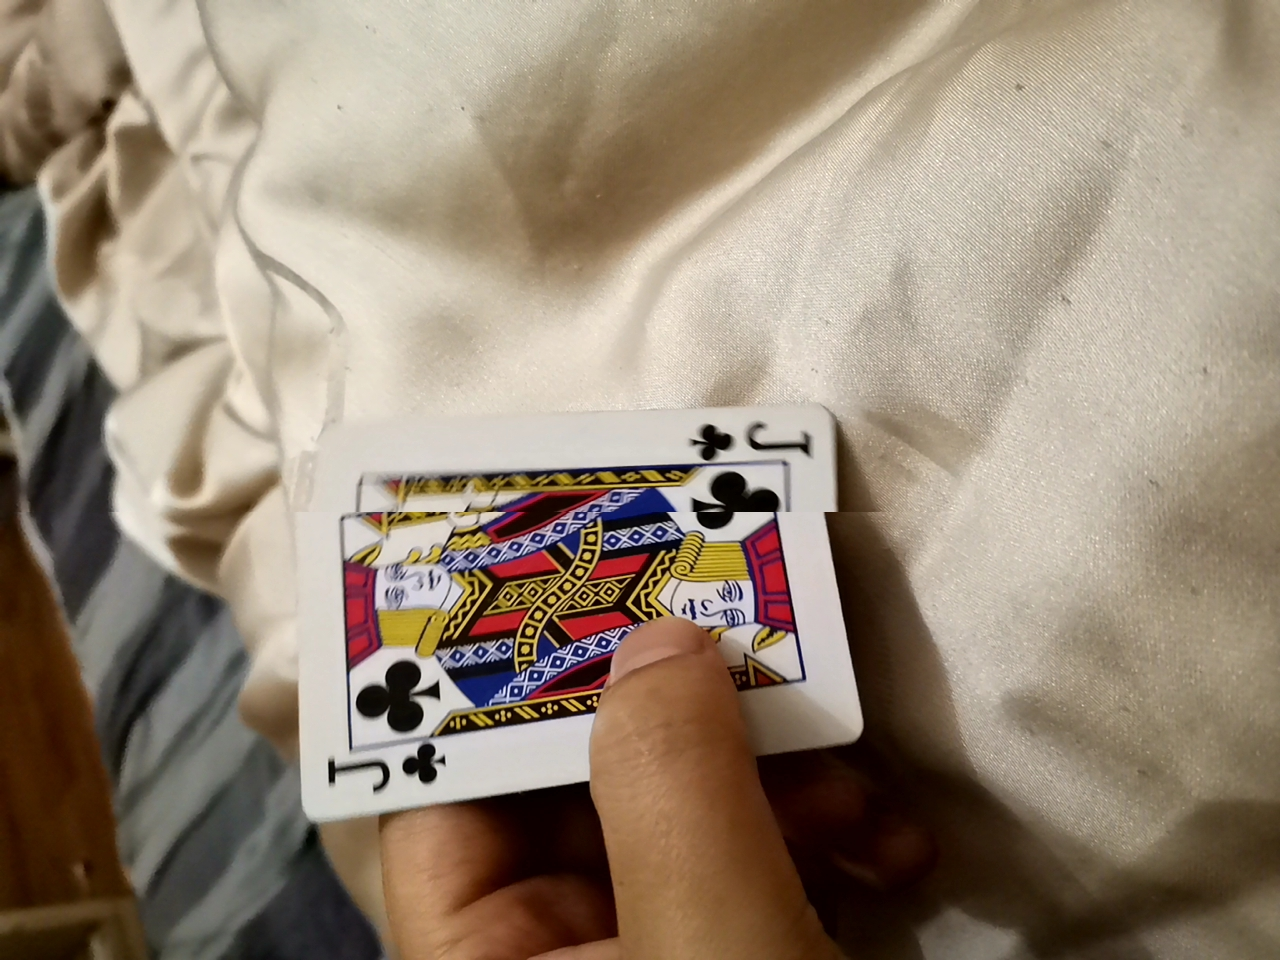mh j: (271, 414, 826, 795)
